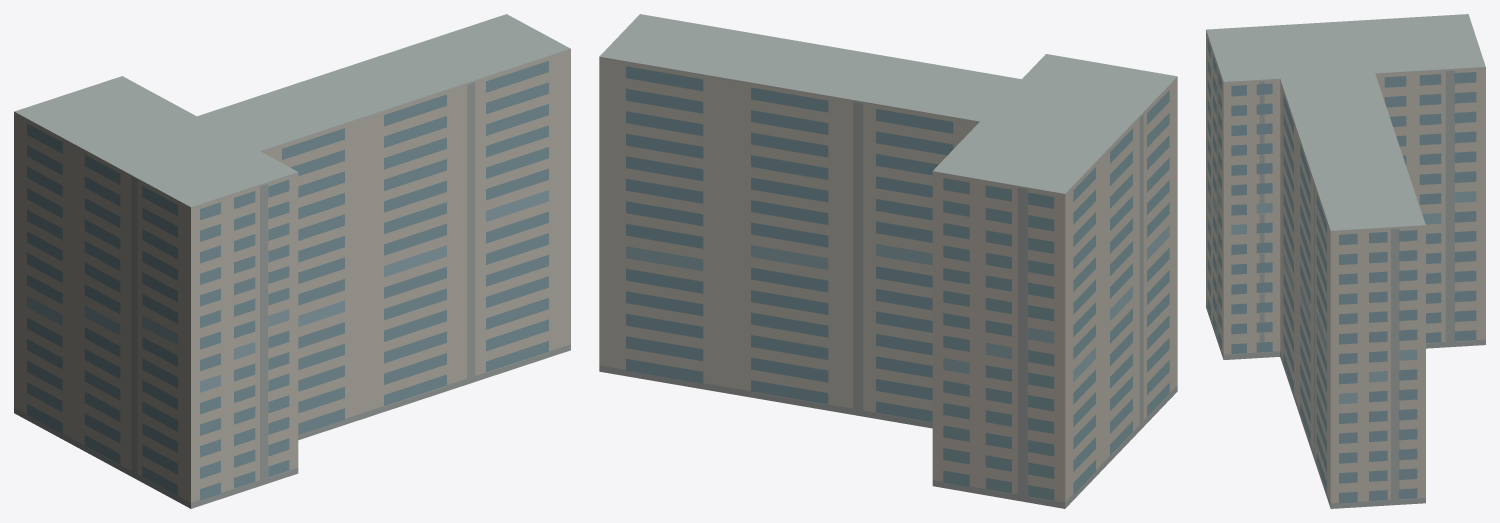
Rendered from residential-1bd69678-d382-4927-8f22-f6626852d859.glb.
The picture shows the model from 3 angles, left to right: view 1: azimuth 30°, elevation 25°; view 2: azimuth 150°, elevation 25°; view 3: azimuth 270°, elevation 25°; orthographic projection. The views are drawn at different scales.
Parts seen in each view (by area): view 1: residential-1bd69678-d382-4927-8f22-f6626852d859.tmp; view 2: residential-1bd69678-d382-4927-8f22-f6626852d859.tmp; view 3: residential-1bd69678-d382-4927-8f22-f6626852d859.tmp.
Boxes of the visible parts, x1,y1,x2,y2 form: residential-1bd69678-d382-4927-8f22-f6626852d859.tmp: [14, 14, 570, 508]; residential-1bd69678-d382-4927-8f22-f6626852d859.tmp: [599, 14, 1177, 508]; residential-1bd69678-d382-4927-8f22-f6626852d859.tmp: [1206, 14, 1485, 508].
Size of the model in its own units: 65.21 by 39 by 35.56.
